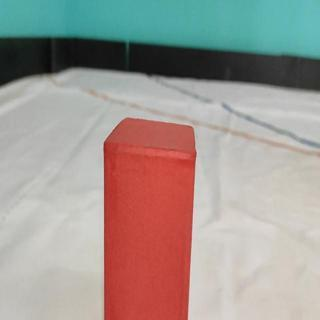redbox: (102, 116, 197, 320)
